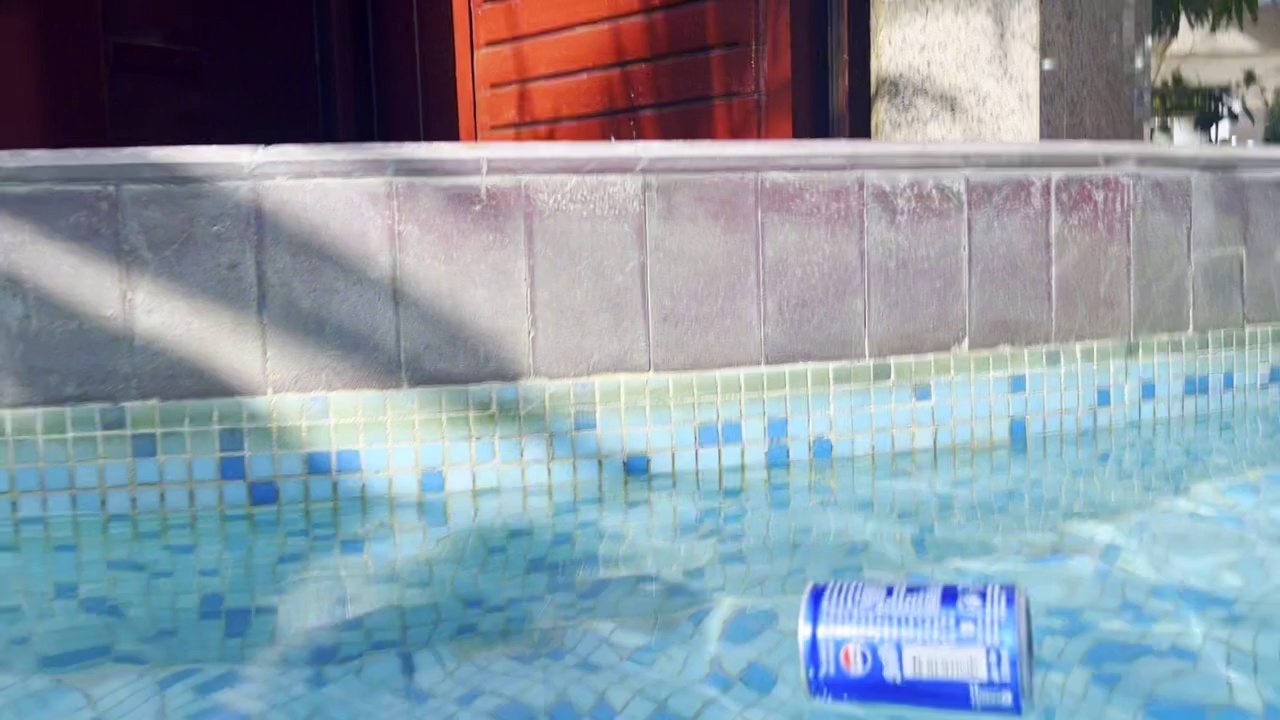debris: (783, 572, 1043, 720)
